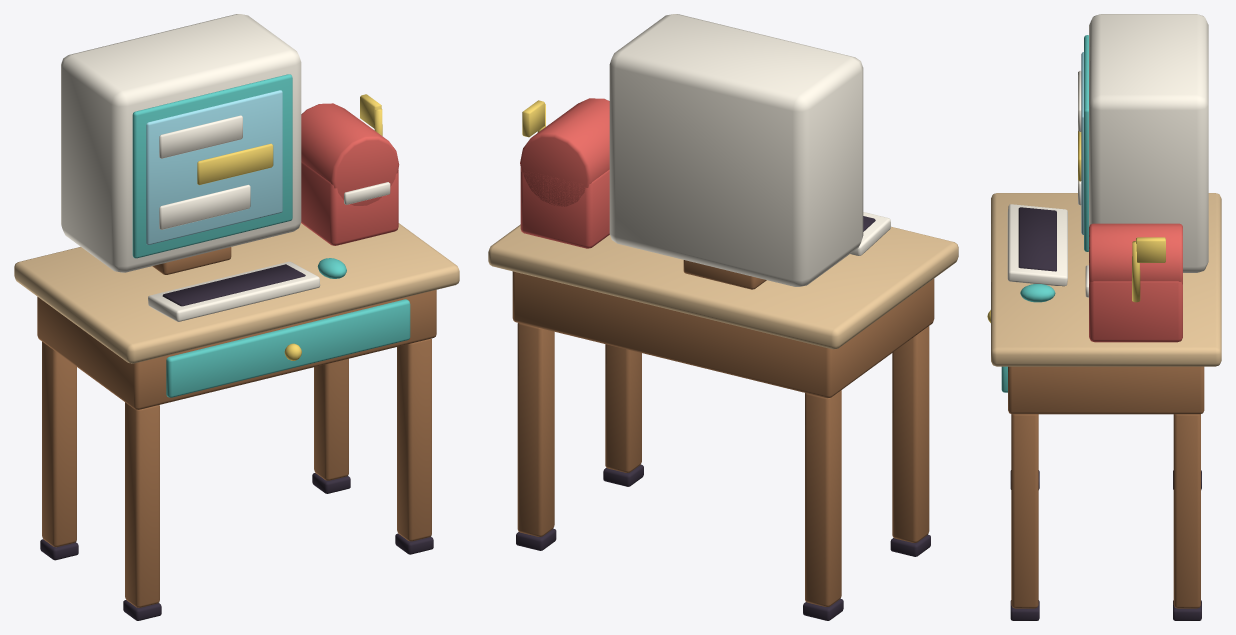
File: chat-computer.glb
The picture shows the model from 3 angles, left to right: view 1: azimuth 30°, elevation 25°; view 2: azimuth 150°, elevation 25°; view 3: azimuth 270°, elevation 25°; orthographic projection. The views are drawn at different scales.
Visible parts, largest first — view 1: IntChatComputer_MonitorCream, IntChatComputer_DeskFrame, IntChatComputer_DeskTop, IntChatComputer_TurquoiseTrim, IntChatComputer_ChatScreen, IntChatComputer_CoralMailbox, IntChatComputer_KeysGlides, IntChatComputer_ButterFlag; view 2: IntChatComputer_MonitorCream, IntChatComputer_DeskFrame, IntChatComputer_DeskTop, IntChatComputer_CoralMailbox, IntChatComputer_KeysGlides, IntChatComputer_ButterFlag; view 3: IntChatComputer_MonitorCream, IntChatComputer_DeskFrame, IntChatComputer_DeskTop, IntChatComputer_CoralMailbox, IntChatComputer_KeysGlides, IntChatComputer_TurquoiseTrim, IntChatComputer_ButterFlag, IntChatComputer_ChatScreen.
Boxes of the visible parts, left/top/right/bottom form: IntChatComputer_MonitorCream: left=61, top=14, right=390, bottom=321; IntChatComputer_DeskFrame: left=37, top=247, right=436, bottom=607; IntChatComputer_DeskTop: left=14, top=223, right=459, bottom=363; IntChatComputer_TurquoiseTrim: left=132, top=74, right=410, bottom=397; IntChatComputer_ChatScreen: left=146, top=90, right=282, bottom=244; IntChatComputer_CoralMailbox: left=301, top=103, right=399, bottom=245; IntChatComputer_KeysGlides: left=40, top=264, right=433, bottom=620; IntChatComputer_ButterFlag: left=197, top=94, right=382, bottom=360; IntChatComputer_MonitorCream: left=609, top=14, right=890, bottom=286; IntChatComputer_DeskFrame: left=512, top=260, right=934, bottom=606; IntChatComputer_DeskTop: left=488, top=224, right=958, bottom=349; IntChatComputer_CoralMailbox: left=520, top=98, right=609, bottom=248; IntChatComputer_KeysGlides: left=516, top=216, right=930, bottom=620; IntChatComputer_ButterFlag: left=522, top=100, right=545, bottom=137; IntChatComputer_MonitorCream: left=1007, top=14, right=1208, bottom=297; IntChatComputer_DeskFrame: left=1008, top=366, right=1204, bottom=608; IntChatComputer_DeskTop: left=991, top=193, right=1221, bottom=366; IntChatComputer_CoralMailbox: left=1089, top=223, right=1182, bottom=342; IntChatComputer_KeysGlides: left=1010, top=207, right=1201, bottom=620; IntChatComputer_TurquoiseTrim: left=1001, top=35, right=1088, bottom=392; IntChatComputer_ButterFlag: left=987, top=131, right=1165, bottom=322; IntChatComputer_ChatScreen: left=1081, top=52, right=1083, bottom=234.
Size of the model in its own units: 0.88 by 1.24 by 0.548.
